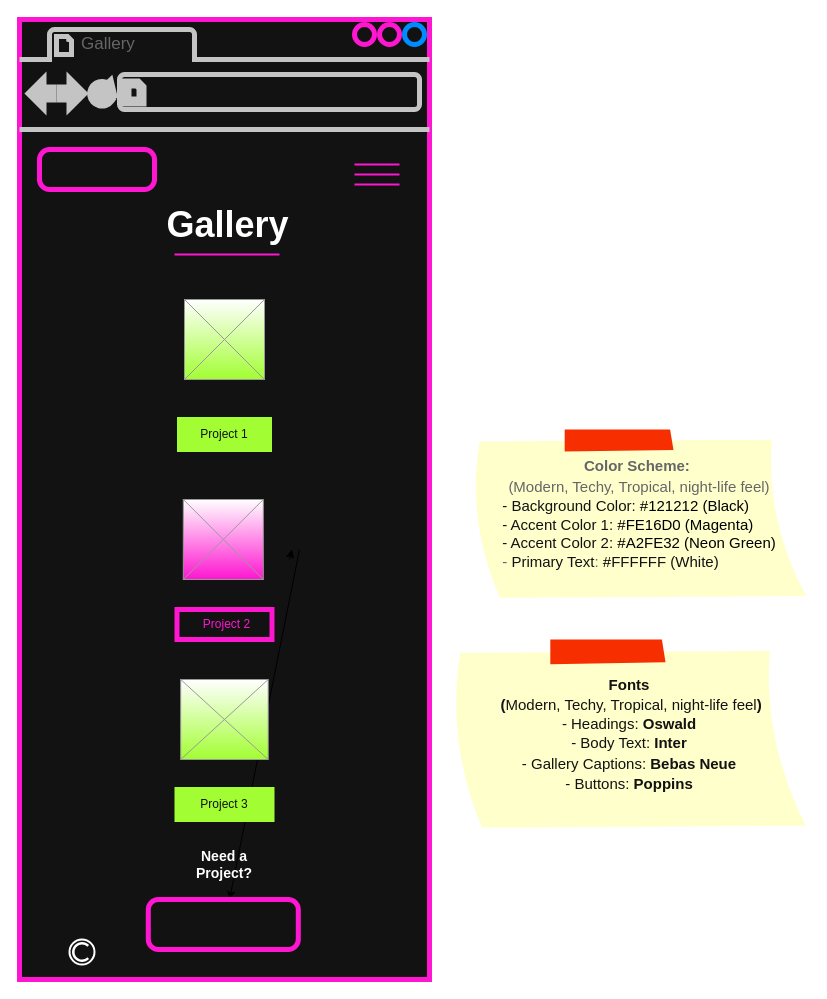
This 827x999 diagram has some shape labels left out. The shapes that lost their labels are listed below. From the top down, each one's box as (x1, y1, x2, y2) in pixels, then its label:
(148, 78, 400, 106): https://www.draw.io
(36, 146, 156, 192): Home
(145, 896, 300, 952): Contact
